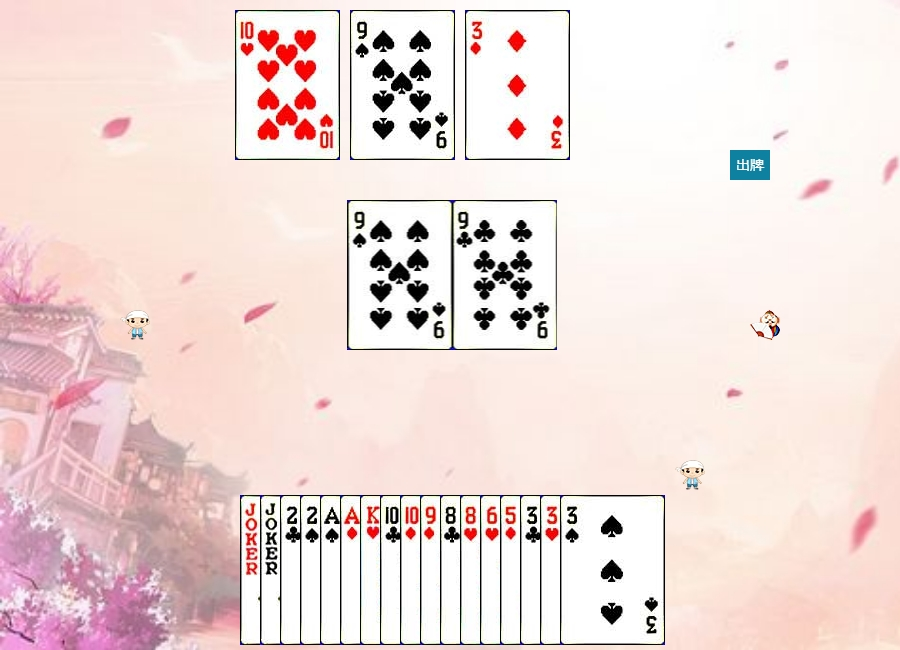10~1: (400, 495, 505, 645)
10~2: (380, 495, 485, 645)
10~3: (235, 10, 340, 160)
13~3: (360, 495, 465, 645)
14~1: (340, 495, 445, 645)
14~4: (320, 495, 425, 645)
15~2: (280, 495, 385, 645)
15~4: (300, 495, 405, 645)
17~3: (260, 495, 365, 645)
18~4: (240, 495, 345, 645)
3~1: (465, 10, 570, 160)
3~2: (520, 495, 625, 645)
3~3: (540, 495, 645, 645)
3~4: (560, 495, 665, 645)
5~1: (500, 495, 605, 645)
6~3: (480, 495, 585, 645)
8~2: (440, 495, 545, 645)
8~3: (460, 495, 565, 645)
9~1: (420, 495, 525, 645)
9~2: (453, 200, 558, 350)
9~4: (350, 10, 455, 160), (348, 200, 453, 350)
